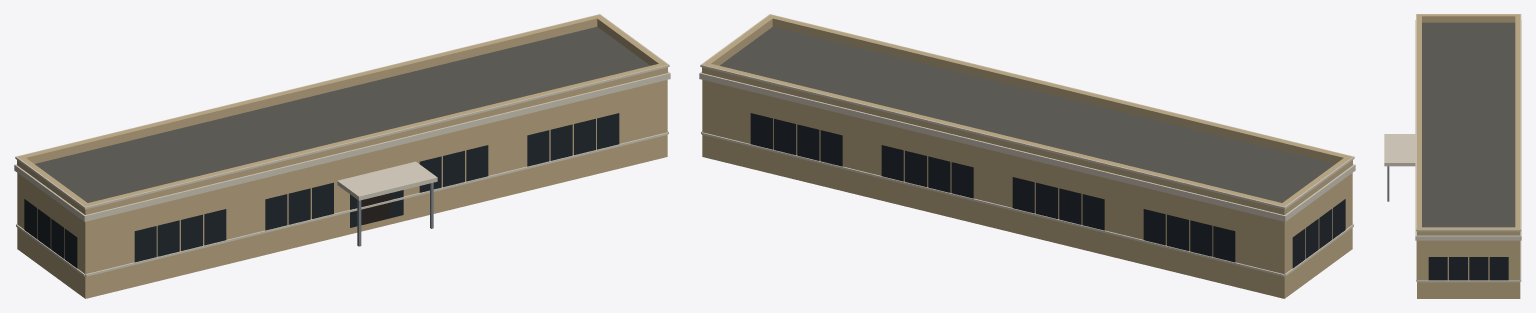
File: east-end-school-clover-1961.glb
3 views of the same model, side by side, from view 1: azimuth 30°, elevation 25°; view 2: azimuth 150°, elevation 25°; view 3: azimuth 270°, elevation 25° (orthographic). The views are drawn at different scales.
Parts seen in each view (by area): view 1: kit-east-end-school-clover-1961; view 2: kit-east-end-school-clover-1961; view 3: kit-east-end-school-clover-1961.
Boxes of the visible parts, x1,y1,x2,y2 form: kit-east-end-school-clover-1961: (14, 14, 670, 298); kit-east-end-school-clover-1961: (699, 14, 1355, 298); kit-east-end-school-clover-1961: (1384, 14, 1521, 298).
Bounding box in the file's own units: 37.24 × 5.6 × 10.02.
